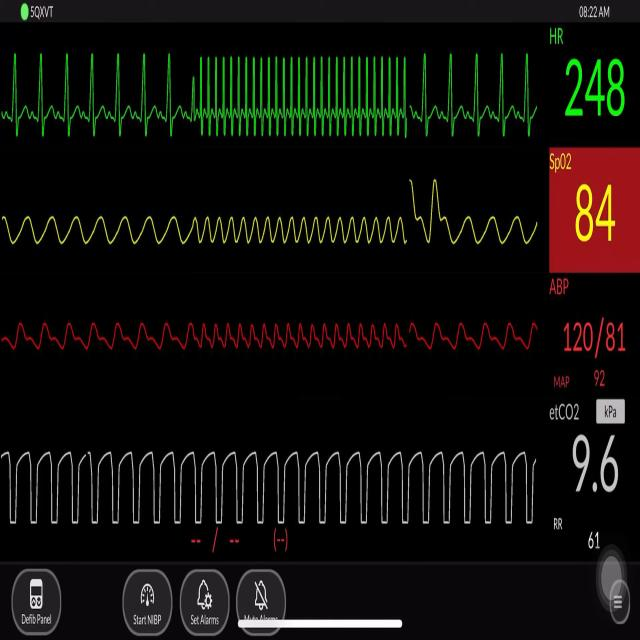danger: (192, 41, 412, 148)
